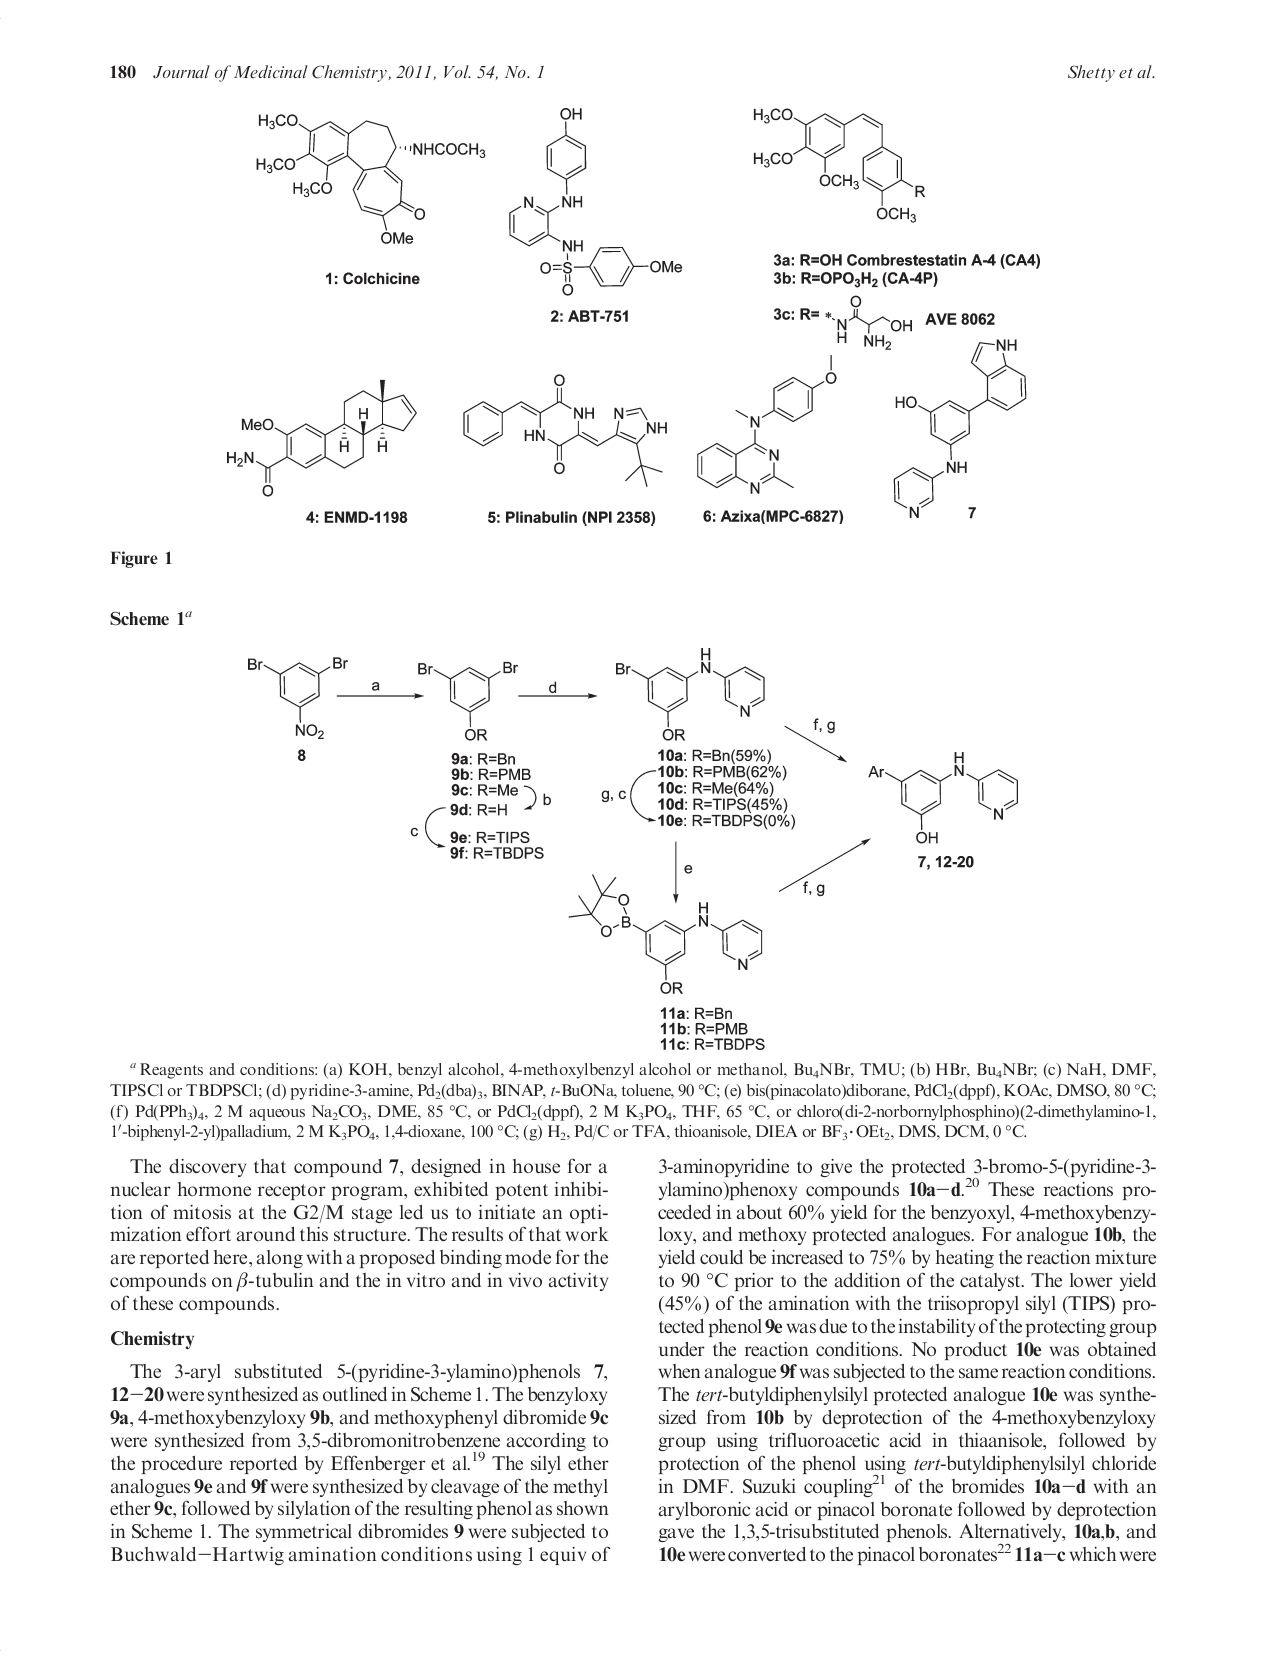exist_molecular: (505, 104, 685, 298), (253, 109, 487, 247), (890, 336, 1031, 521), (567, 872, 765, 996), (461, 372, 670, 489), (222, 376, 419, 497), (749, 102, 928, 227), (694, 352, 838, 496), (610, 646, 770, 742), (868, 750, 1023, 844), (414, 658, 521, 743), (245, 653, 348, 739), (823, 294, 914, 352)
